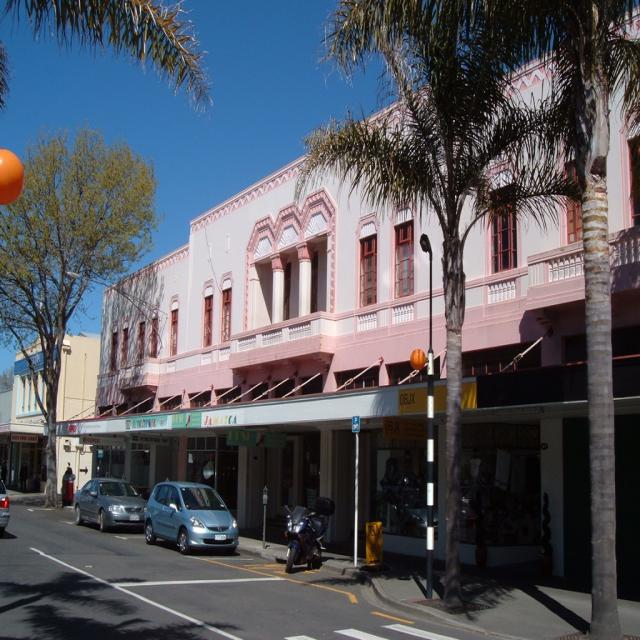car: (140, 479, 240, 556)
